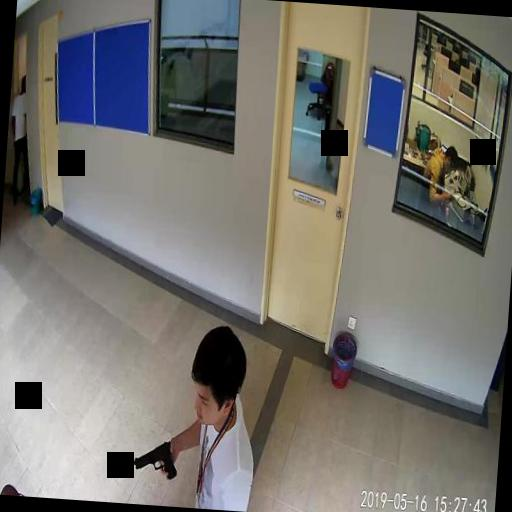Handgun: (131, 437, 178, 480)
